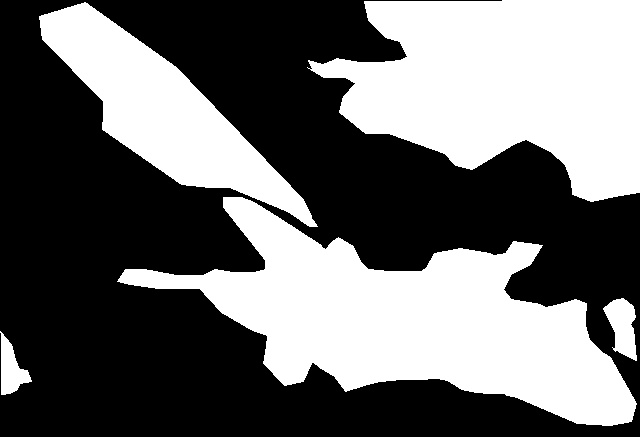Fire: (39, 5, 325, 224)
